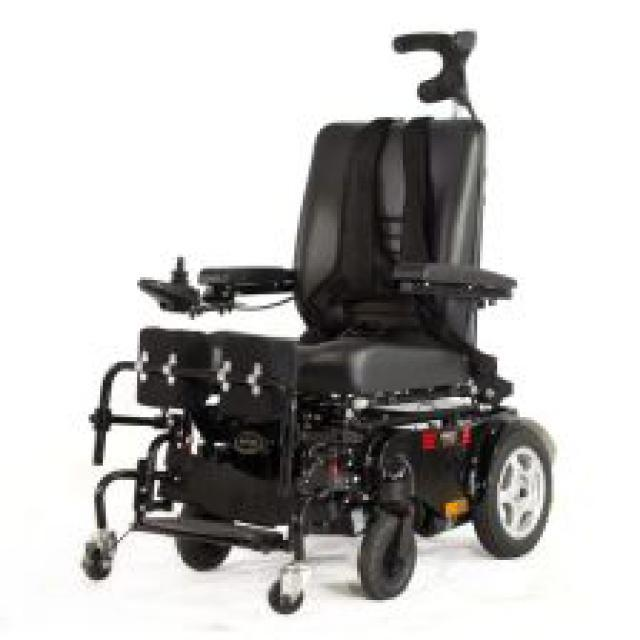wheelchair: (77, 17, 537, 623)
